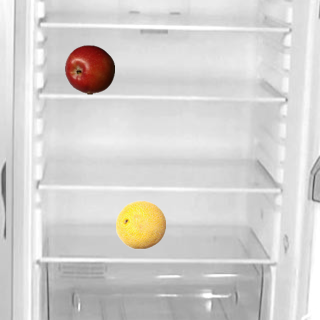Apple Braeburn: (64, 44, 114, 94)
Cantaloupe 1: (115, 199, 165, 249)
